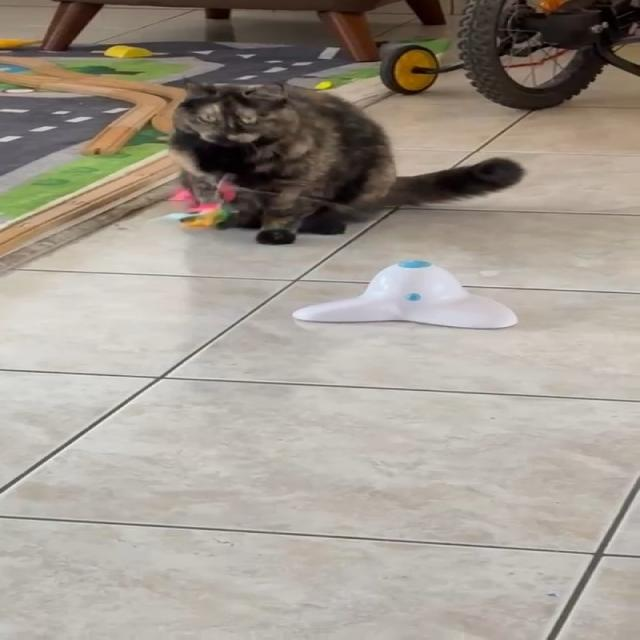authorized: (167, 80, 524, 245)
